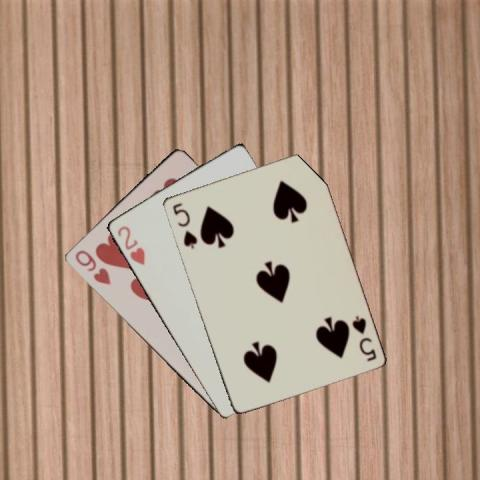2h: (114, 222, 147, 266)
5s: (169, 199, 199, 250), (349, 312, 377, 363)
9h: (72, 246, 111, 286)
